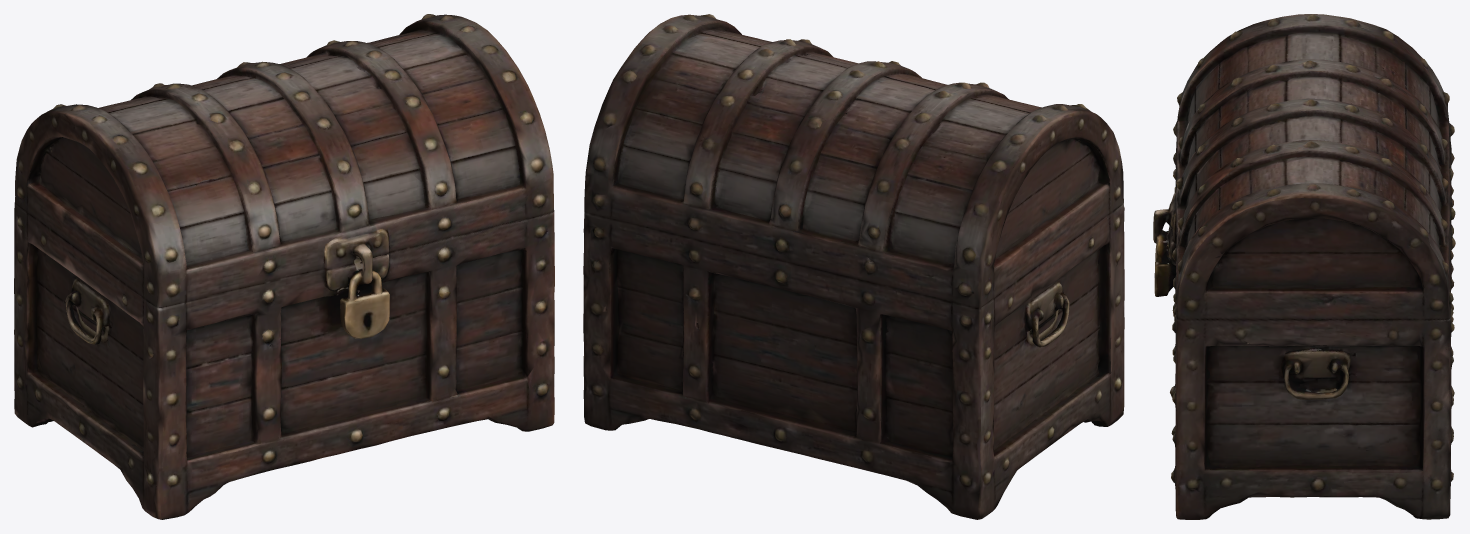
The picture shows the model from 3 angles, left to right: view 1: azimuth 30°, elevation 25°; view 2: azimuth 150°, elevation 25°; view 3: azimuth 270°, elevation 25°; orthographic projection. The views are drawn at different scales.
Visible parts, largest first — view 1: Mesh_0; view 2: Mesh_0; view 3: Mesh_0.
Part boxes in pixels (box(x1,y1,x2,y2)): Mesh_0: box(14, 14, 554, 519); Mesh_0: box(583, 14, 1124, 519); Mesh_0: box(1153, 14, 1455, 519).
Bounding box in the file's own units: 0.7336 × 0.61 × 0.5064.
Materials: 1 (1 with a texture image).
